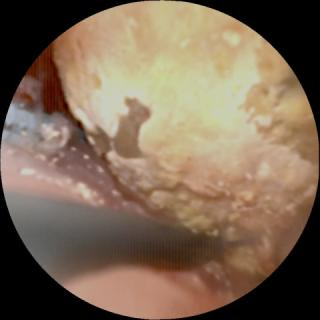stone: (54, 5, 314, 276)
